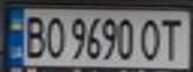0: (115, 15, 139, 61)
6: (84, 14, 103, 61)
9: (66, 14, 87, 61), (100, 15, 121, 61)
B: (18, 12, 48, 60)
O: (136, 16, 163, 62), (42, 12, 66, 60)
T: (157, 15, 187, 62)
